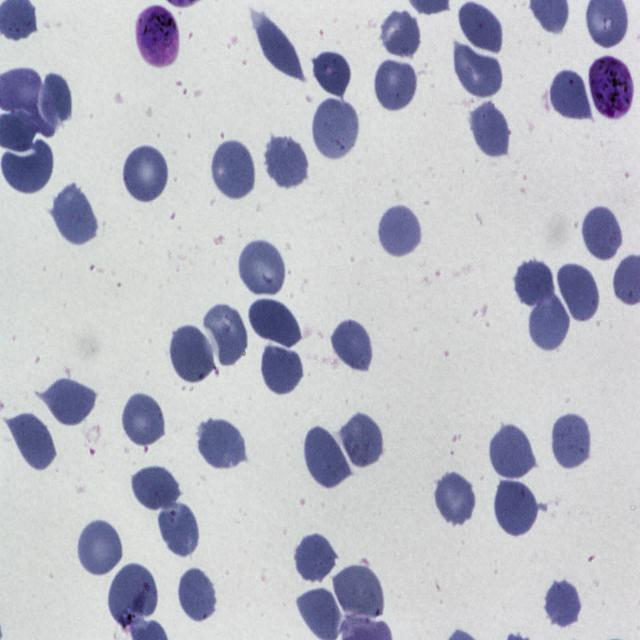difficult: (588, 53, 634, 122)
gametocyte: (134, 3, 180, 70)
red blood cell: (250, 11, 304, 82), (302, 423, 353, 493), (310, 96, 360, 163), (331, 562, 384, 625), (6, 409, 57, 474), (202, 300, 249, 370), (107, 562, 158, 626), (168, 321, 217, 387), (51, 181, 98, 249), (236, 238, 288, 299), (209, 138, 257, 203), (121, 142, 170, 205), (41, 374, 98, 428), (76, 516, 124, 579), (492, 476, 540, 539), (555, 260, 600, 326), (452, 40, 503, 98), (488, 422, 536, 483), (247, 296, 303, 348), (196, 416, 247, 473), (0, 139, 52, 194), (528, 284, 571, 350), (262, 132, 310, 191), (120, 390, 167, 450), (156, 496, 201, 558), (376, 201, 423, 260), (338, 411, 385, 470), (468, 98, 512, 161), (549, 410, 593, 472), (433, 467, 477, 529), (373, 56, 419, 115), (129, 462, 180, 513), (580, 203, 624, 262), (330, 316, 374, 374), (259, 341, 304, 397), (293, 530, 339, 584), (176, 566, 218, 624), (378, 6, 422, 61), (458, 1, 502, 54), (513, 255, 556, 309), (548, 69, 594, 119), (543, 575, 583, 629), (37, 72, 76, 127), (310, 50, 352, 100)
